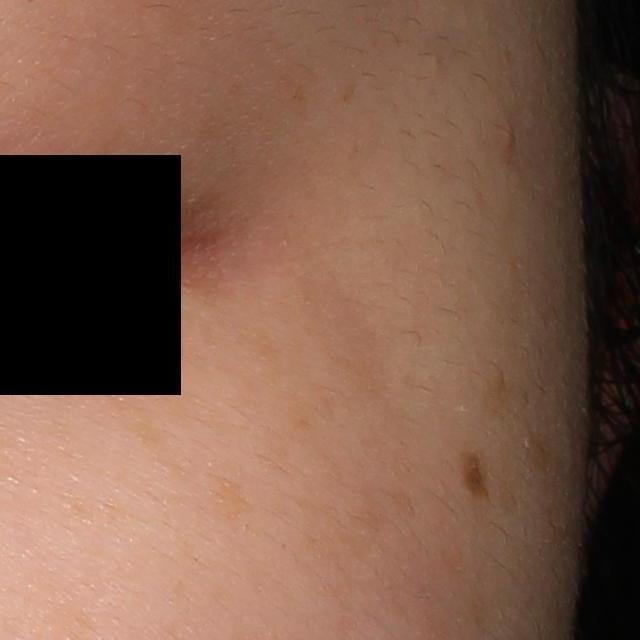melasma: (68, 370, 181, 464), (202, 470, 256, 520), (469, 366, 514, 423)
papule: (504, 114, 517, 158)
